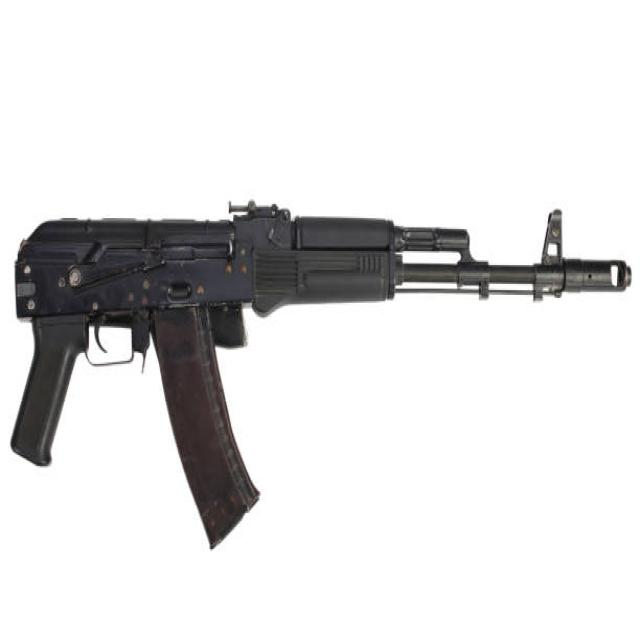rifle: (5, 159, 638, 559)
